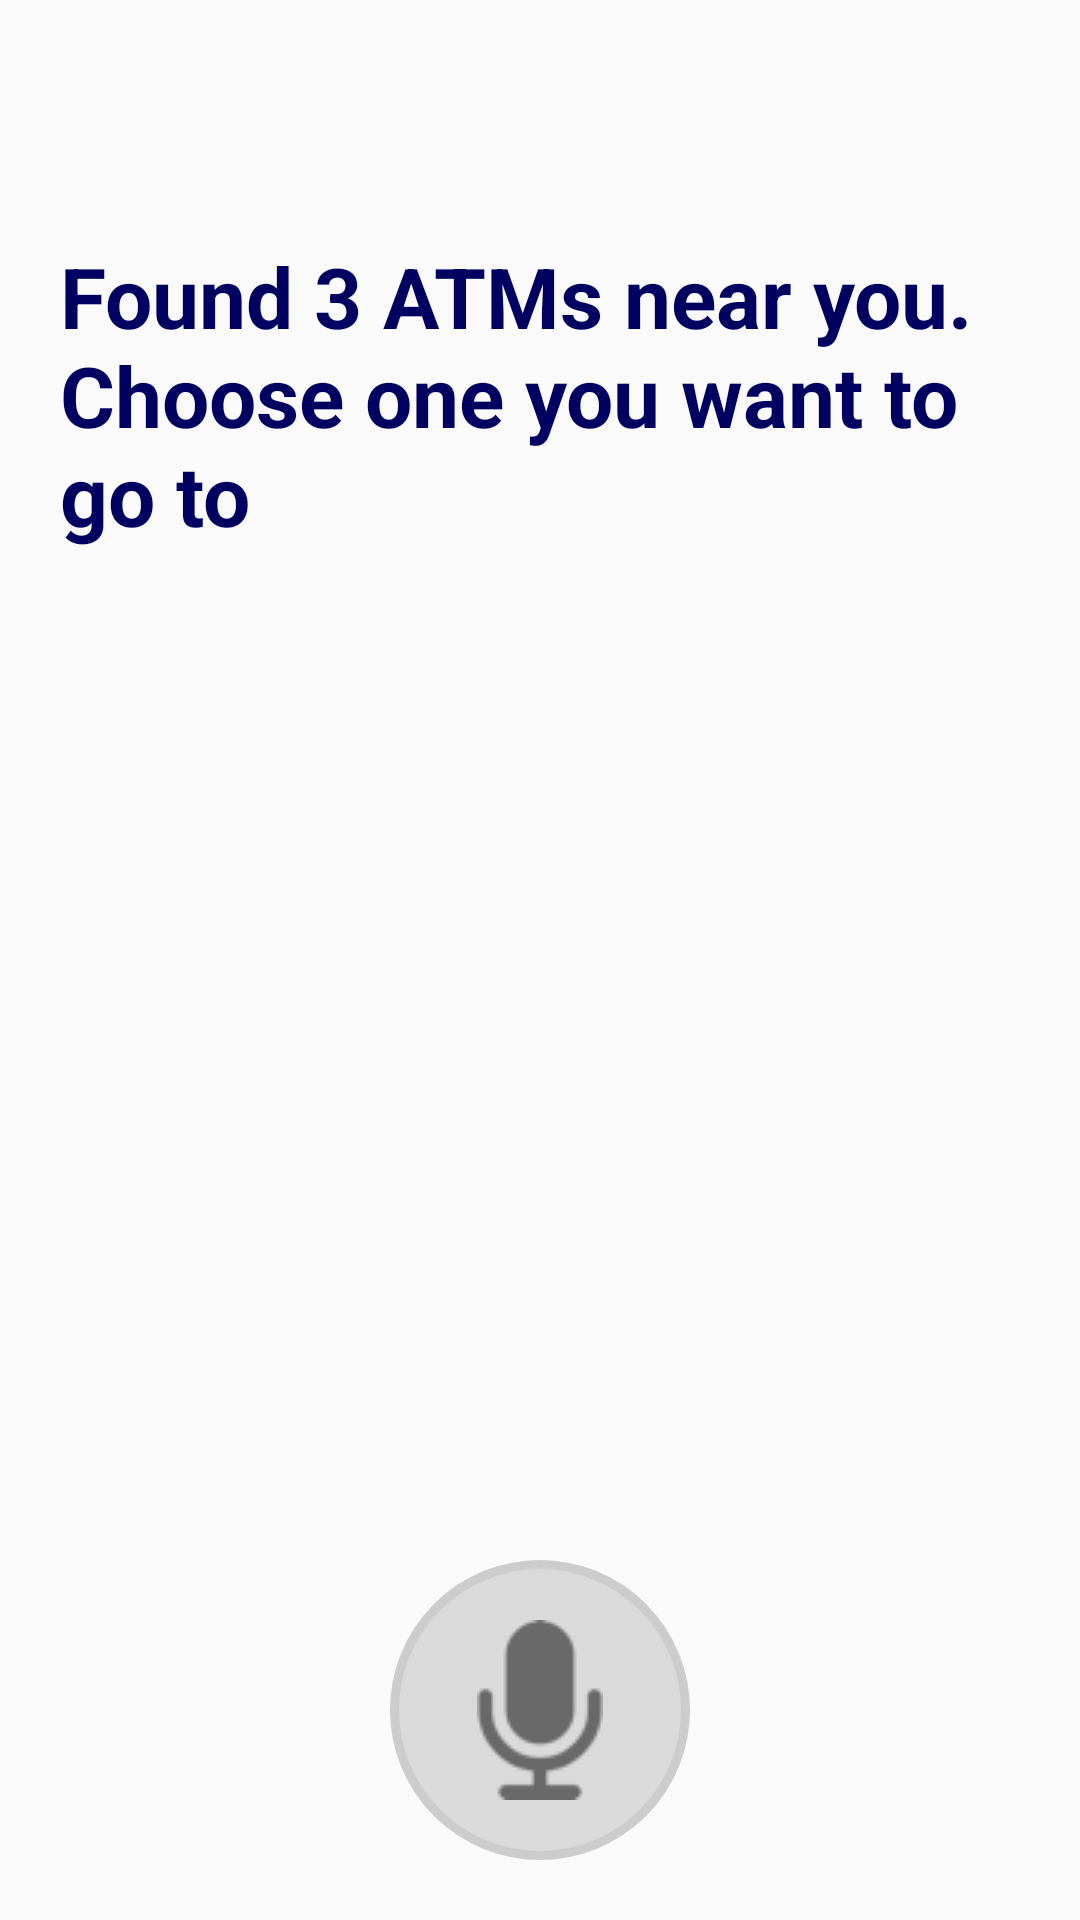

Named icons in this screenshot (1080px×1920px) and their centers, [x,y]:
microphone shape: [540,1710]
